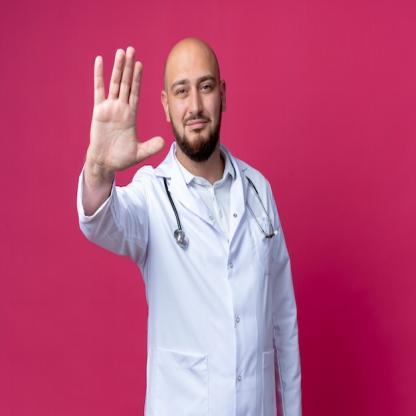stop: (86, 43, 167, 170)
